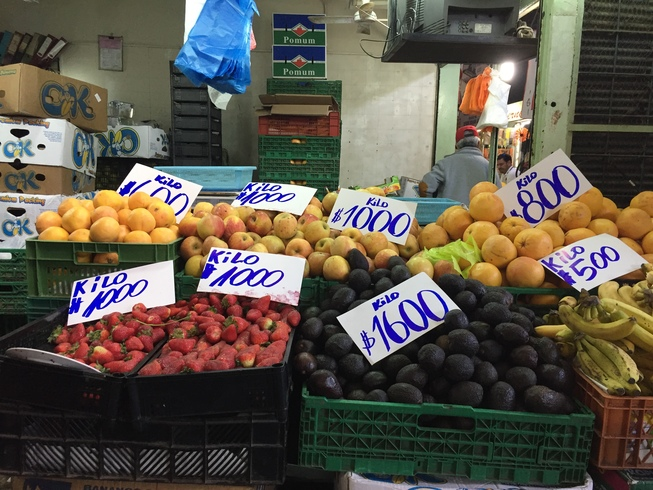precio: (335, 267, 459, 374), (64, 252, 178, 333), (492, 155, 589, 231), (206, 245, 308, 309), (546, 232, 645, 294), (111, 161, 204, 226), (331, 184, 419, 250), (233, 174, 317, 226)
